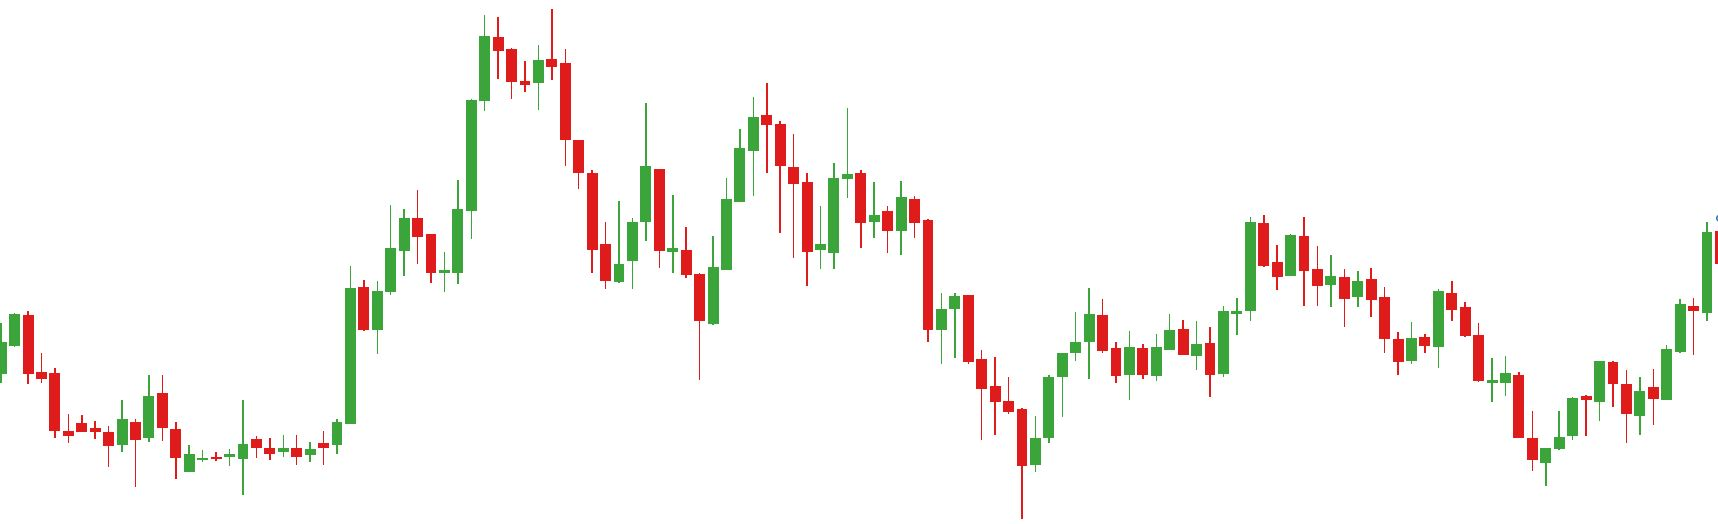sell: (637, 84, 771, 229), (490, 10, 557, 89)
